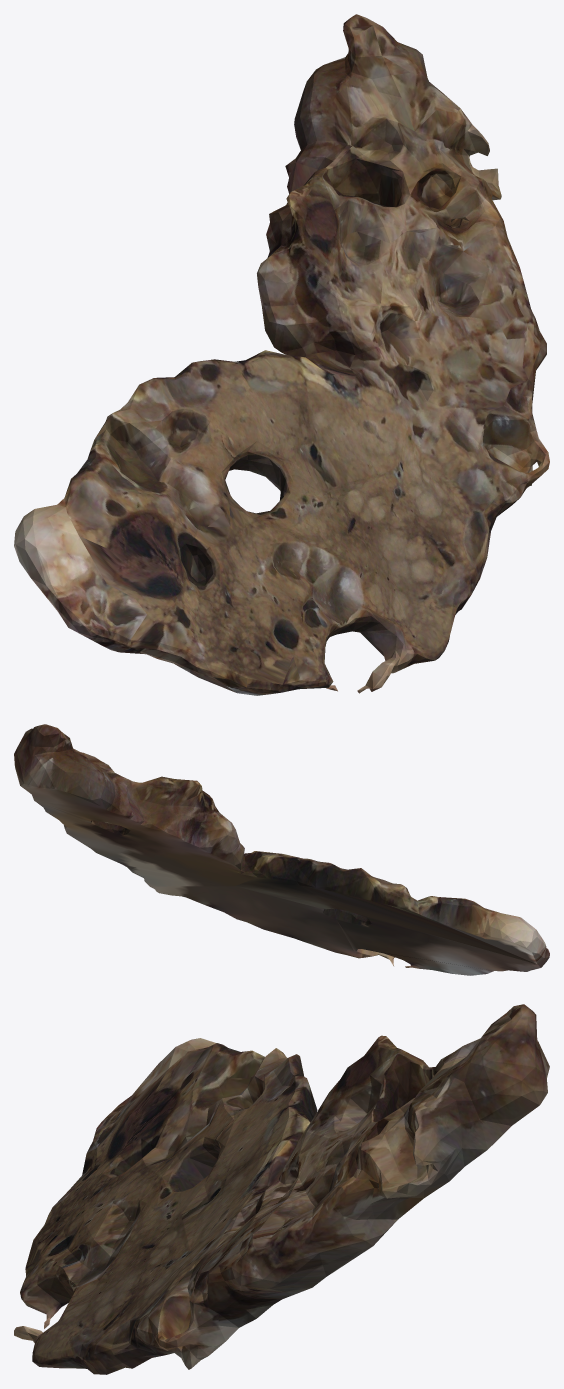
File: honeycomb_decimate.dae
3 views of the same model, one above another, from view 1: azimuth 30°, elevation 25°; view 2: azimuth 150°, elevation 25°; view 3: azimuth 270°, elevation 25° (orthographic). The views are drawn at different scales.
Parts seen in each view (by area): view 1: model_mesh; view 2: model_mesh; view 3: model_mesh.
Boxes of the visible parts, x1,y1,x2,y2 form: model_mesh: (14,14,549,695); model_mesh: (14,724,549,975); model_mesh: (14,1004,549,1374).
Size of the model in its own units: 0.232 by 0.1808 by 0.1688.
Materials: 1 (1 with a texture image).
